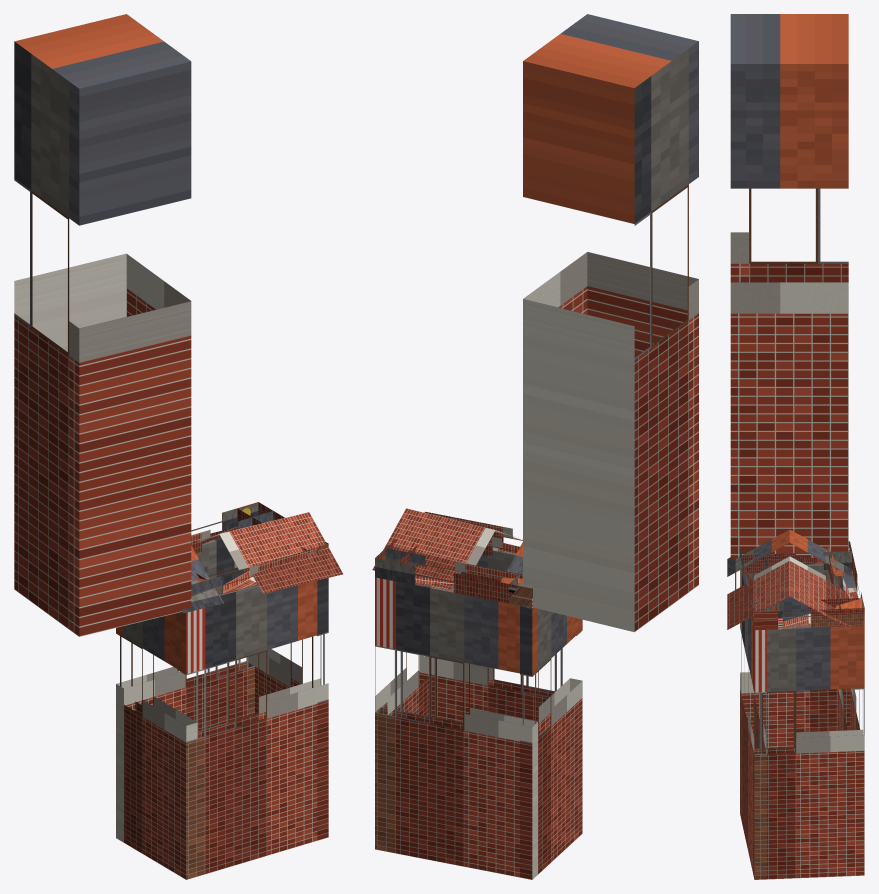
3 renders of one model, left to right at view 1: azimuth 30°, elevation 25°; view 2: azimuth 150°, elevation 25°; view 3: azimuth 270°, elevation 25°, orthographic. The views are drawn at different scales.
Visible parts, largest first — view 1: 1107107804__chimney_0_xb, 1107107804__wall_0_xb, 1107107804__wall_3_xb, 1107107804__wall_2_xb, 1107107804_roof_-1_xb, 1107107804__wall_1_xb, 1107107804__cornice_0, 1107107804__cornice_2; view 2: 1107107804__chimney_0_xb, 1107107804__wall_2_xb, 1107107804__wall_3_xb, 1107107804__wall_0_xb, 1107107804_roof_1_xb, 1107107804__cornice_2, 1107107804__wall_1_xb, 1107107804__cornice_0; view 3: 1107107804__chimney_0_xb, 1107107804__wall_1_xb, 1107107804__wall_0_xb, 1107107804__wall_3_xb, 1107107804_roof_-1_xb, 1107107804_roof_1_xb, 1107107804__cornice_1, 1107107804__cornice_3, 1107107804__wall_2_xb, 1107107804__cornice_0, 1107107804__cornice_2.
Part boxes in pixels (x1,y1,x2,y2): 1107107804__chimney_0_xb: (14,14,191,636); 1107107804__wall_0_xb: (178,581,328,879); 1107107804__wall_3_xb: (116,612,197,879); 1107107804__wall_2_xb: (116,537,254,842); 1107107804_roof_-1_xb: (182,512,343,613); 1107107804__wall_1_xb: (248,578,328,840); 1107107804__cornice_0: (191,547,316,596); 1107107804__cornice_2: (191,503,273,553); 1107107804__chimney_0_xb: (523,14,698,632); 1107107804__wall_2_xb: (375,577,537,879); 1107107804__wall_3_xb: (520,606,582,879); 1107107804__wall_0_xb: (419,550,582,723); 1107107804_roof_1_xb: (372,508,531,608); 1107107804__cornice_2: (375,548,532,607); 1107107804__wall_1_xb: (375,652,434,716); 1107107804__cornice_0: (425,511,522,555); 1107107804__chimney_0_xb: (730,14,848,563); 1107107804__wall_1_xb: (753,624,864,879); 1107107804__wall_0_xb: (740,570,766,879); 1107107804__wall_3_xb: (740,563,850,748); 1107107804_roof_-1_xb: (727,529,789,629); 1107107804_roof_1_xb: (789,530,851,629); 1107107804__cornice_1: (752,598,864,629); 1107107804__cornice_3: (742,541,851,573); 1107107804__wall_2_xb: (838,570,864,734); 1107107804__cornice_0: (740,547,777,630); 1107107804__cornice_2: (827,542,864,608).
Bounding box in the file's own units: 0.3508 × 1.05 × 0.1744.
Materials: 1 (1 with a texture image).
